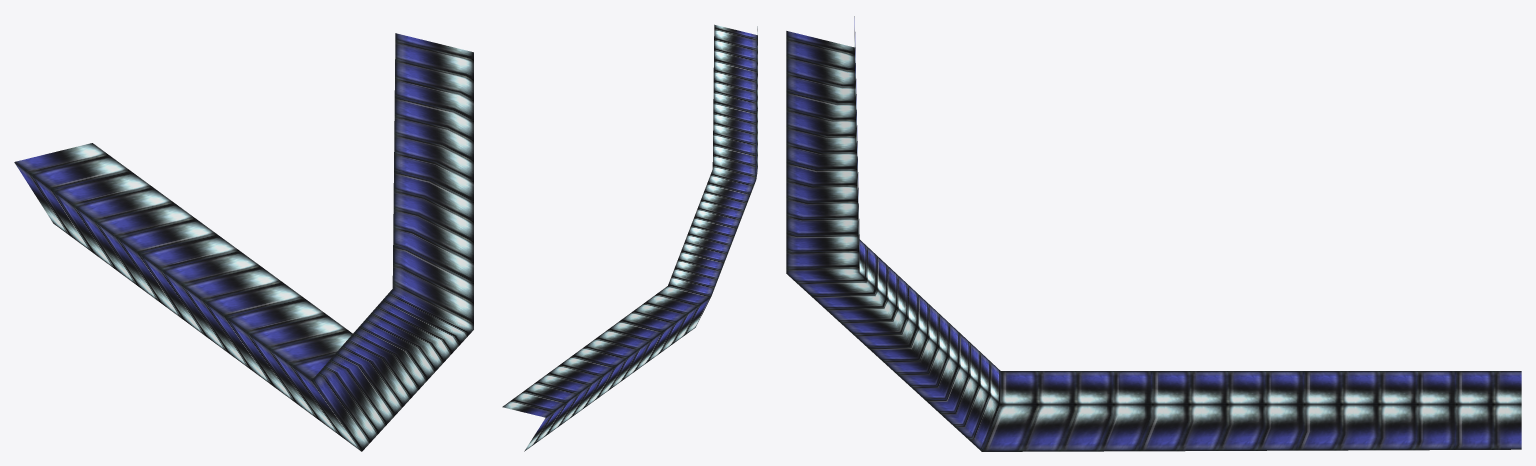
3 views of the same model, side by side, from view 1: azimuth 30°, elevation 25°; view 2: azimuth 150°, elevation 25°; view 3: azimuth 270°, elevation 25° (orthographic). The views are drawn at different scales.
Visible parts, largest first — view 1: Cylinder01; view 2: Cylinder01; view 3: Cylinder01.
Part boxes in pixels (x1,y1,x2,y2): Cylinder01: (14,33,473,451); Cylinder01: (502,24,757,451); Cylinder01: (786,16,1521,451).
Bounding box in the file's own units: 164 × 963 × 1524.
Materials: 1 (1 with a texture image).
